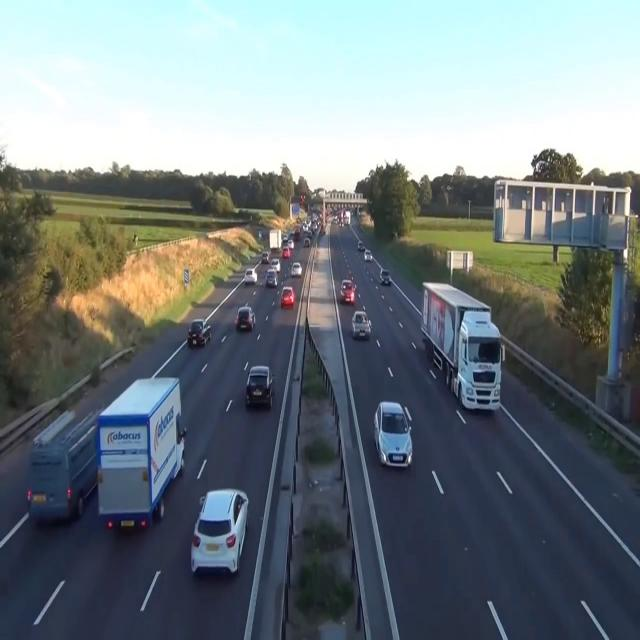belum terisi: (93, 364, 189, 544), (416, 268, 512, 427), (22, 398, 98, 528), (194, 474, 248, 575), (368, 391, 417, 480), (238, 351, 278, 416), (346, 299, 376, 348), (185, 311, 213, 359), (231, 292, 258, 341), (338, 271, 358, 311), (280, 278, 297, 316)
